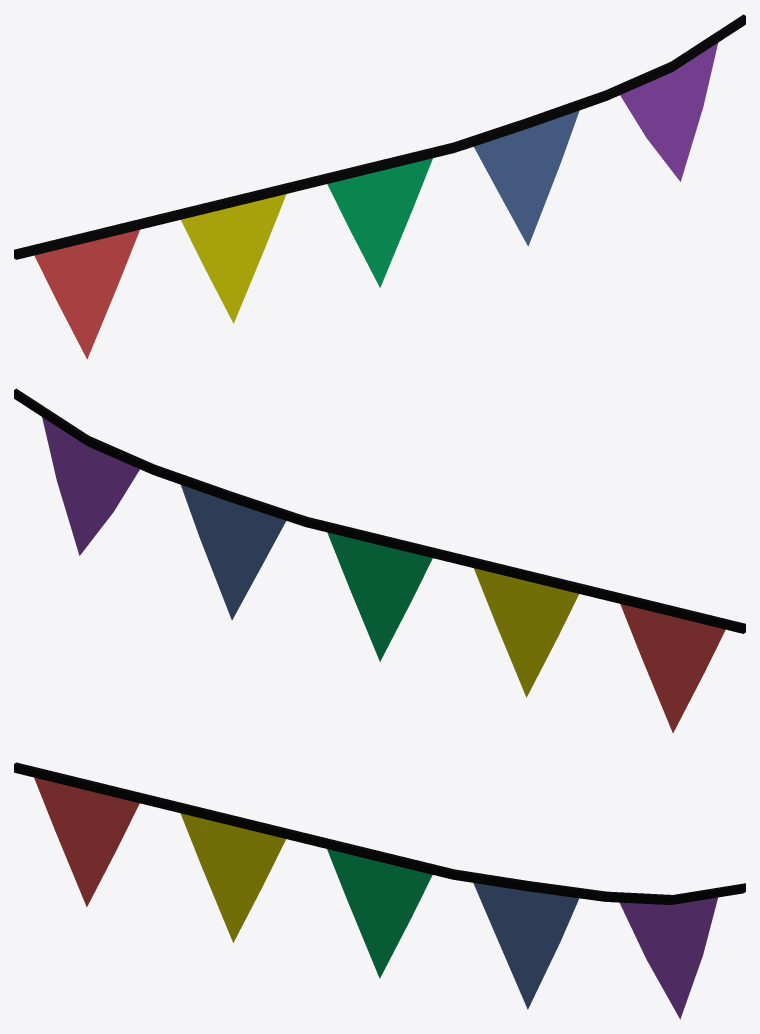
The model's file is endFlags_v1.fbx.
3 views of the same model, one above another, from view 1: azimuth 30°, elevation 25°; view 2: azimuth 150°, elevation 25°; view 3: azimuth 330°, elevation 25° (orthographic).
Visible parts, largest first — view 1: string_geo, flag04_geo, flag03_geo, flag01_geo, flag02_geo, flag05_geo; view 2: string_geo, flag04_geo, flag02_geo, flag03_geo, flag01_geo, flag05_geo; view 3: string_geo, flag04_geo, flag01_geo, flag02_geo, flag03_geo, flag05_geo.
Part boxes in pixels (<box>): string_geo: <box>14,14,745,259</box>; flag04_geo: <box>474,110,579,246</box>; flag03_geo: <box>327,158,432,287</box>; flag01_geo: <box>34,230,139,359</box>; flag02_geo: <box>181,194,286,323</box>; flag05_geo: <box>620,43,717,181</box>; string_geo: <box>14,388,745,633</box>; flag04_geo: <box>181,485,285,620</box>; flag02_geo: <box>474,568,578,697</box>; flag03_geo: <box>327,532,432,661</box>; flag01_geo: <box>620,604,725,732</box>; flag05_geo: <box>42,417,139,555</box>; string_geo: <box>14,762,745,904</box>; flag04_geo: <box>473,883,579,1009</box>; flag01_geo: <box>34,777,139,906</box>; flag02_geo: <box>180,813,285,942</box>; flag03_geo: <box>327,849,432,978</box>; flag05_geo: <box>620,897,717,1019</box>.
Bounding box in the file's own units: 675 × 162 × 3.75.
